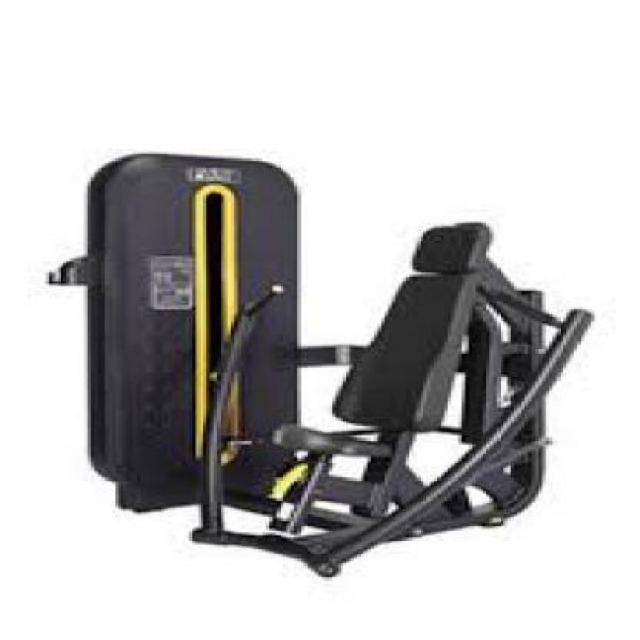Chest Press machine: (40, 146, 602, 597)
